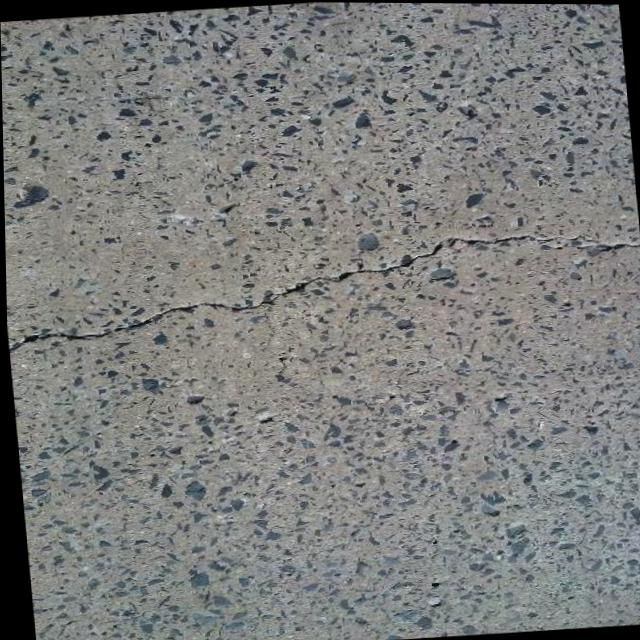Crack: (4, 215, 640, 363)
